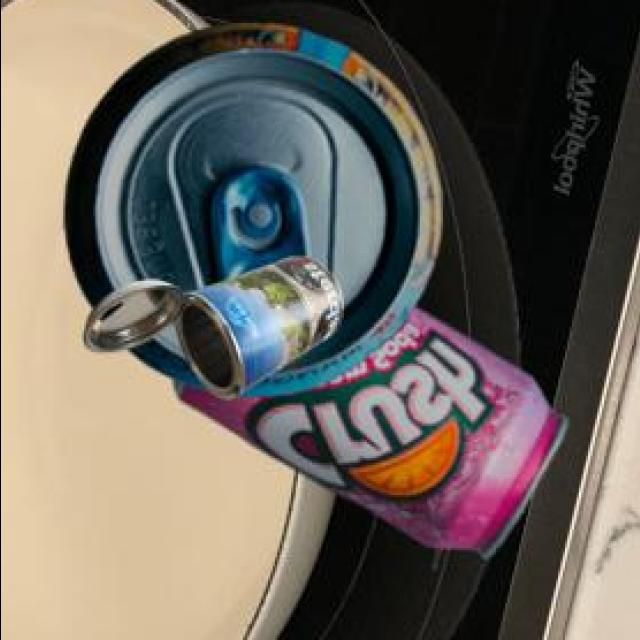logam: (61, 20, 436, 393), (169, 303, 563, 554), (79, 252, 337, 397)
